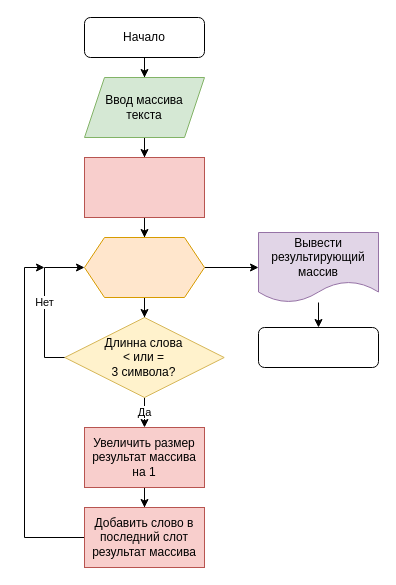
Image size: 396x585. Some labels were removed from this diagram. The shapes that lost their labels are listed below. From the top down, each one's box as (x1, y1, x2, y2) in pixels, then its label:
(84, 156, 204, 218): создать результирующий массив размером 0
(84, 236, 204, 298): Цикл Для каждого слова в тексте
(258, 326, 378, 368): Конец
